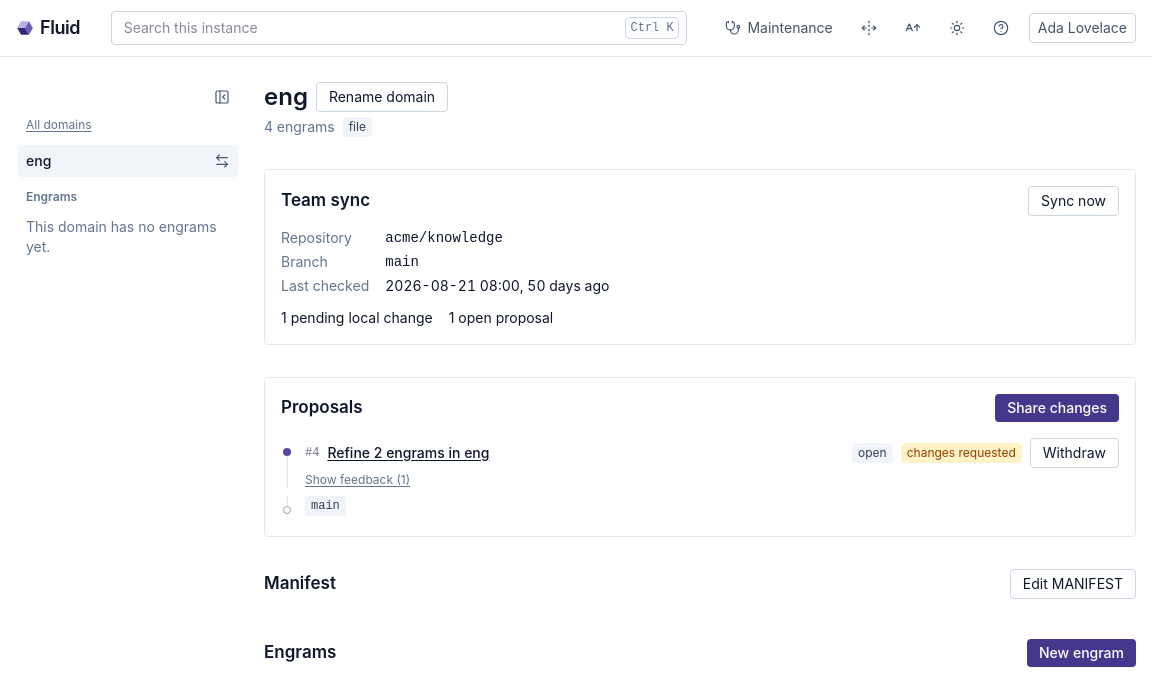
it: the proposals card › says which files a revert could not put back
Click the button "Withdraw" at (1074, 453), box [1030, 438, 1119, 468]
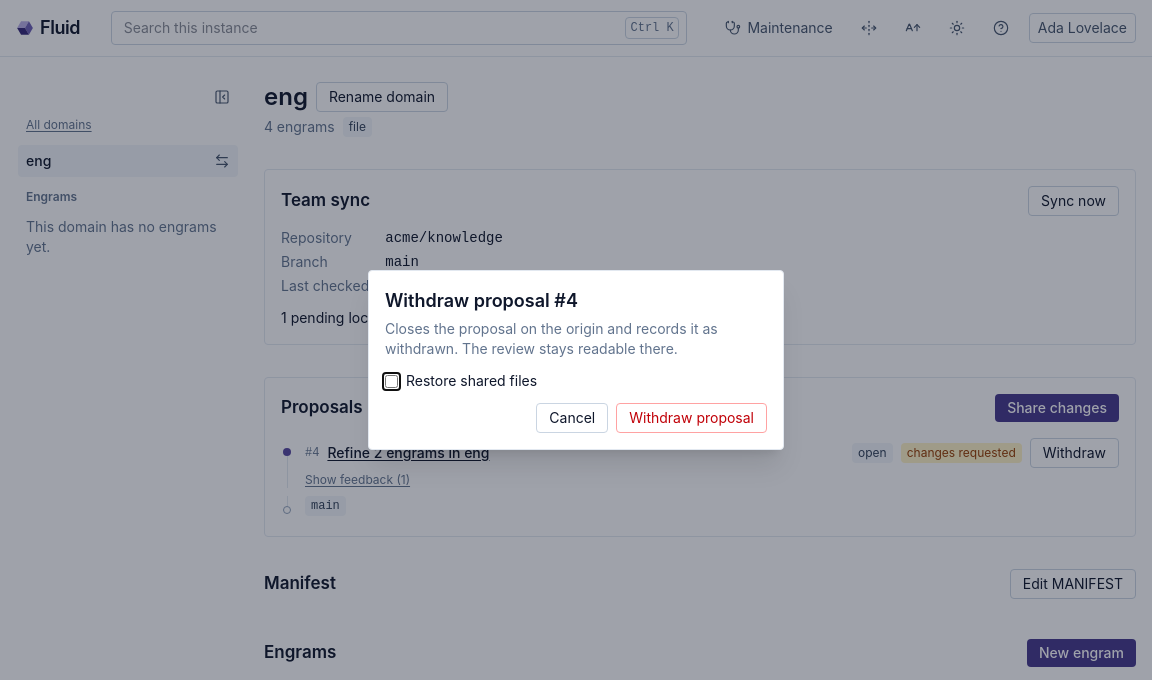
Click the checkbox labelled "Restore shared files" at (392, 381), box [385, 374, 398, 388]
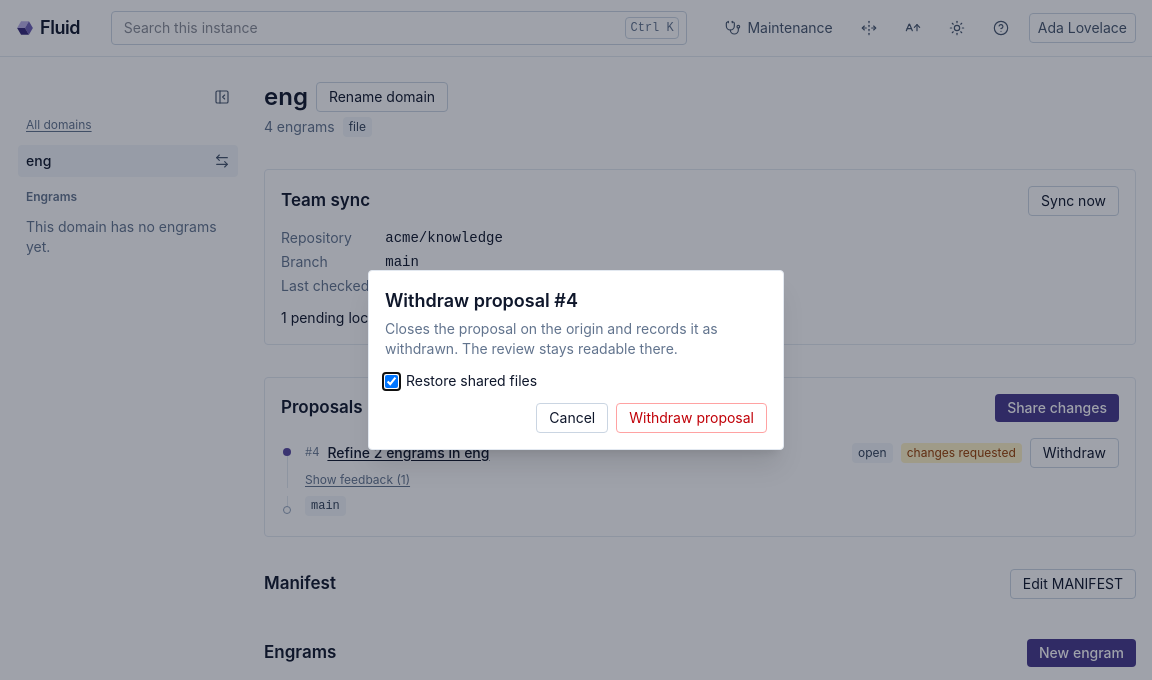
Click the button "Withdraw proposal" at (692, 418), box [616, 403, 767, 433]
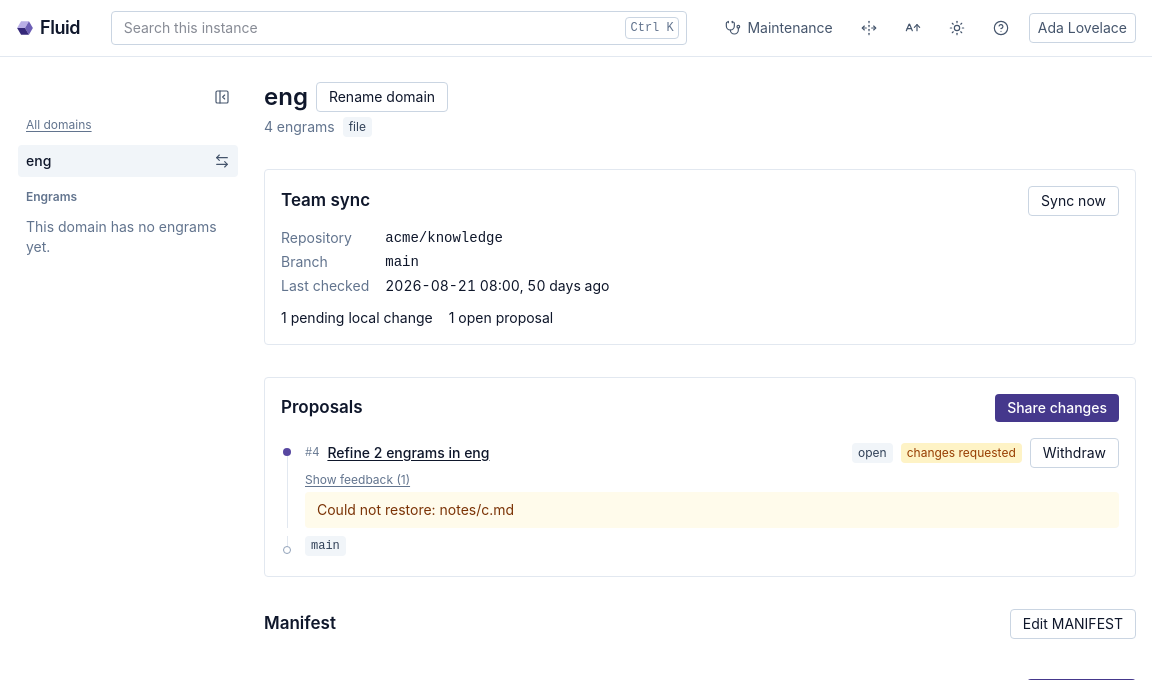
Now the message reads "Could not restore: notes/c.md", box [317, 501, 514, 518]
